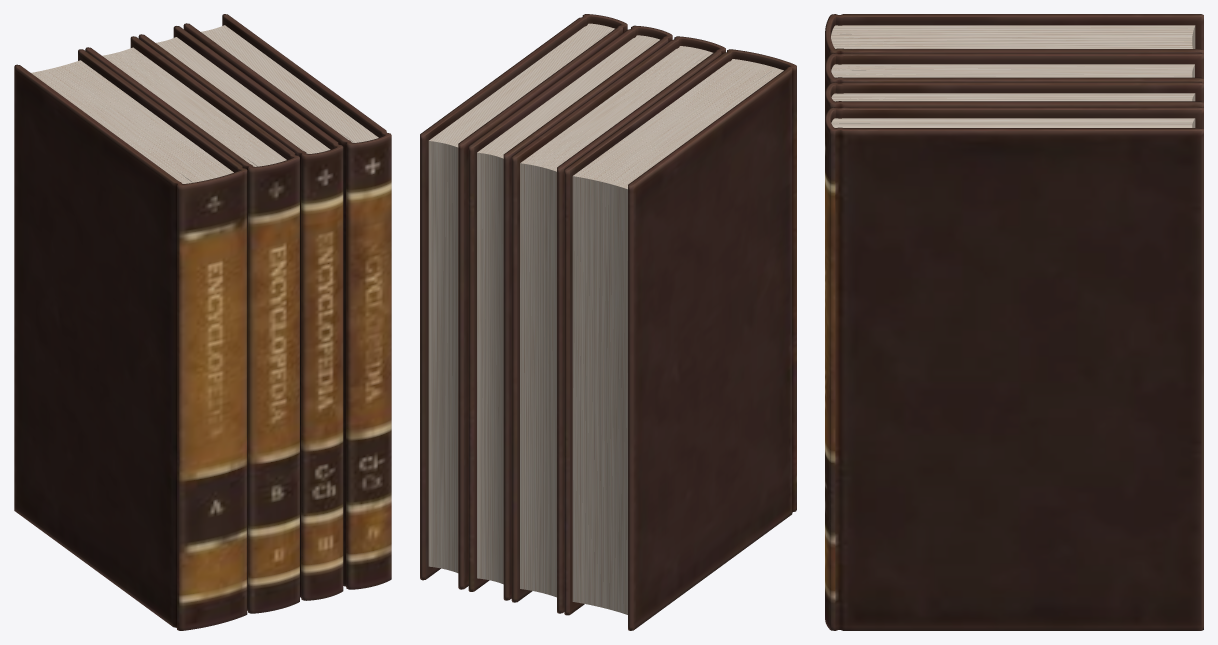
File: book_encyclopedia_set_01-full.glb
3 renders of one model, left to right at view 1: azimuth 30°, elevation 25°; view 2: azimuth 150°, elevation 25°; view 3: azimuth 270°, elevation 25°, orthographic. The views are drawn at different scales.
Visible parts, largest first — view 1: literature_book_stack; view 2: literature_book_stack; view 3: literature_book_stack.
Part boxes in pixels (left/top/right/bottom): literature_book_stack: left=14, top=14, right=391, bottom=630; literature_book_stack: left=420, top=14, right=796, bottom=630; literature_book_stack: left=825, top=14, right=1203, bottom=630.
Size of the model in its own units: 0.1193 by 0.2374 by 0.1631.
2 materials, 2 textured.
